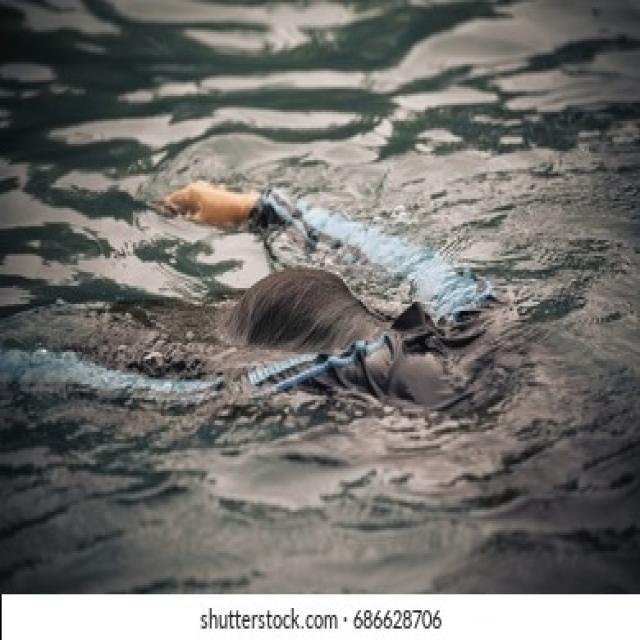drowning: (110, 128, 584, 498)
